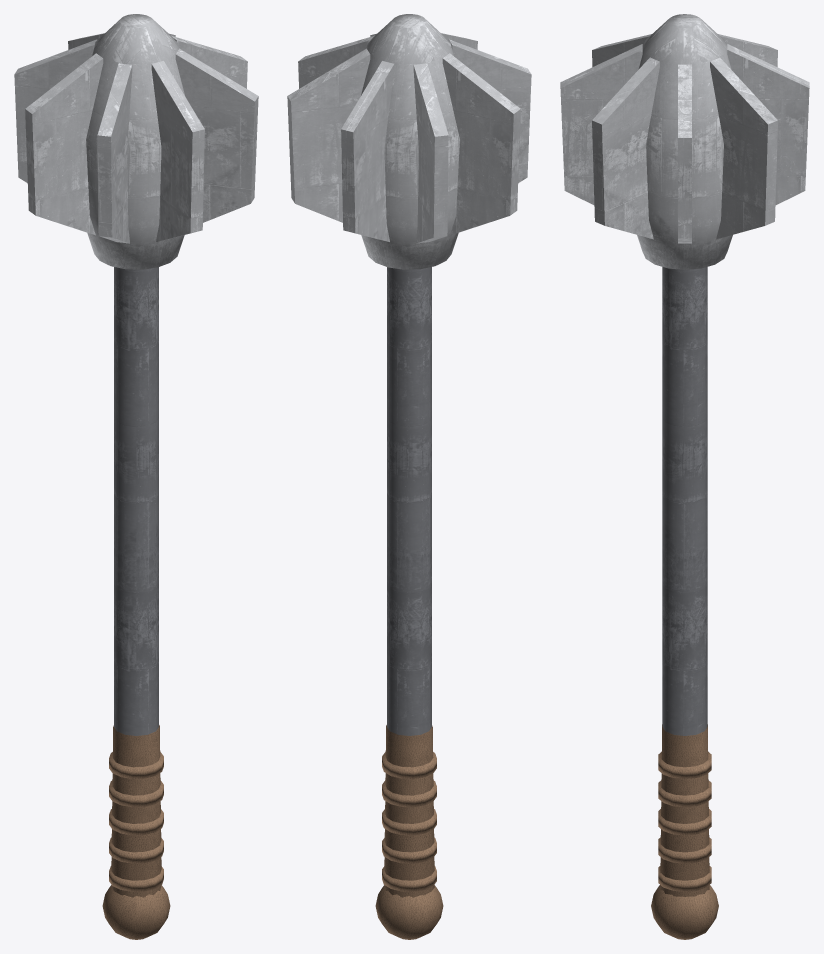
Rendered from mace_1handed.glb.
The picture shows the model from 3 angles, left to right: view 1: azimuth 30°, elevation 25°; view 2: azimuth 150°, elevation 25°; view 3: azimuth 270°, elevation 25°; orthographic projection.
Visible parts, largest first — view 1: mace_1handed; view 2: mace_1handed; view 3: mace_1handed.
Part boxes in pixels (x1,y1,x2,y2): mace_1handed: [14, 14, 258, 939]; mace_1handed: [287, 14, 531, 939]; mace_1handed: [560, 14, 809, 939].
Bounding box in the file's own units: 0.176 × 0.714 × 0.176.
3 materials, 3 textured.
